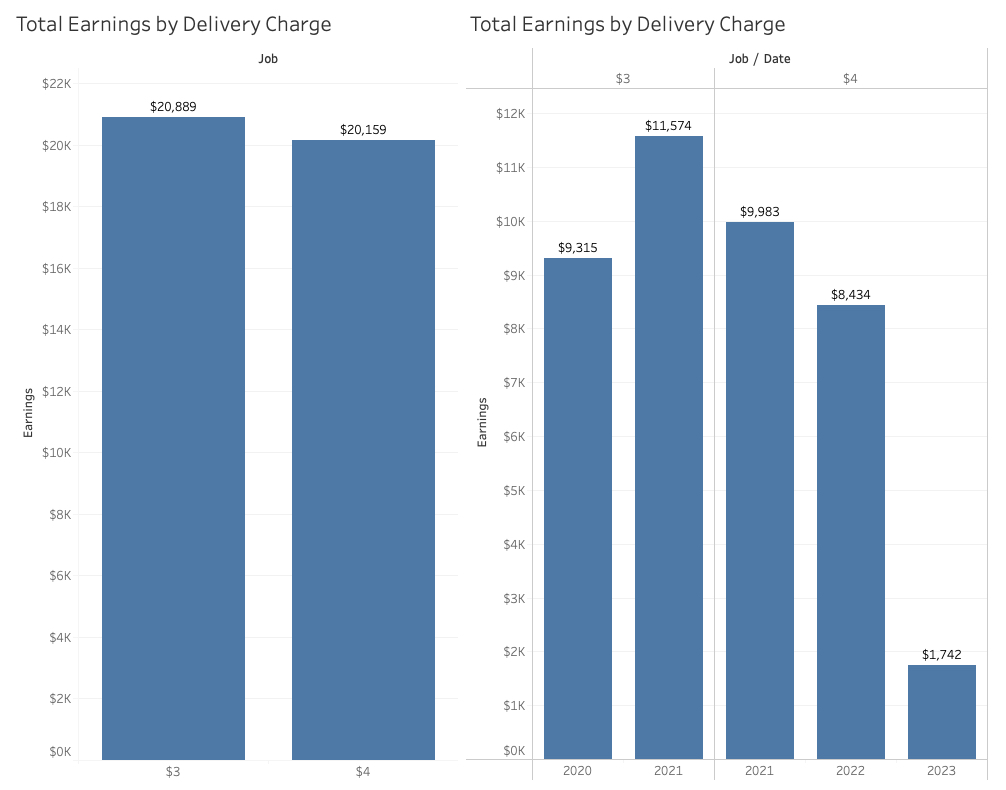

What the dashboard file says about the page in this screenshot:
{"tool":"tableau","page":{"name":"Dashboard 3","canvas":[1000,800],"ordinal":4},"visuals":[{"type":"worksheet","title":"-Avg Earning by Deliv Charge","mark":"Bar","rows":["Earnings"],"cols":["Job"],"box":[8,8,492,784]},{"type":"worksheet","title":"-Avg Earning by Deliv Charge (2)","mark":"Bar","rows":["Earnings"],"cols":["Job","Date"],"box":[500,8,492,784]}]}

Visuals, with their boxes in screenshot pixels (x1, y1, x2, y2), scaled from the page's 1000x800 canvas onto the 1006x790 screenshot:
"-Avg Earning by Deliv Charge" worksheet (Bar marks): <region>8, 8, 503, 782</region>
"-Avg Earning by Deliv Charge (2)" worksheet (Bar marks): <region>503, 8, 998, 782</region>
